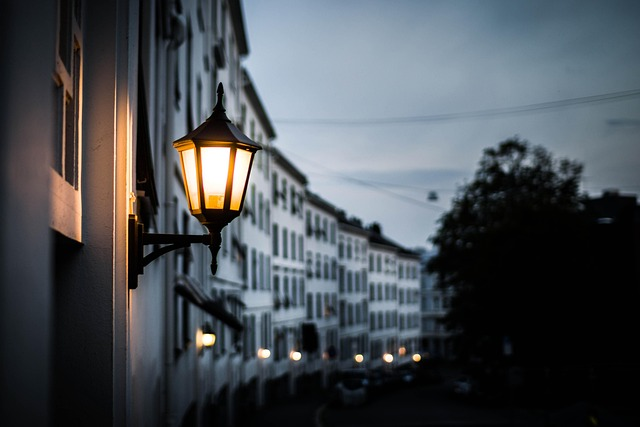Lamp: (115, 79, 264, 287)
